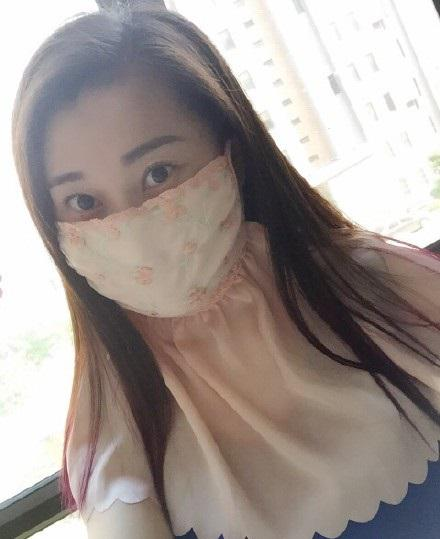OK: (50, 133, 243, 317)
